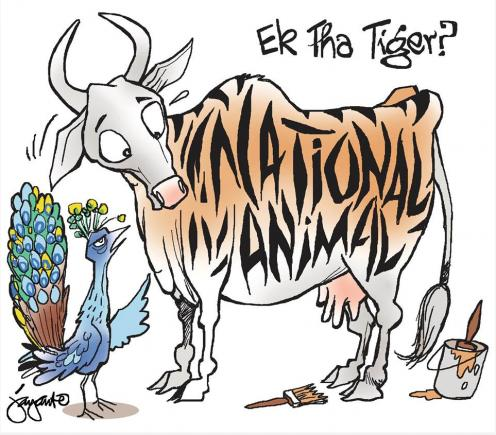cow: (50, 37, 454, 402)
